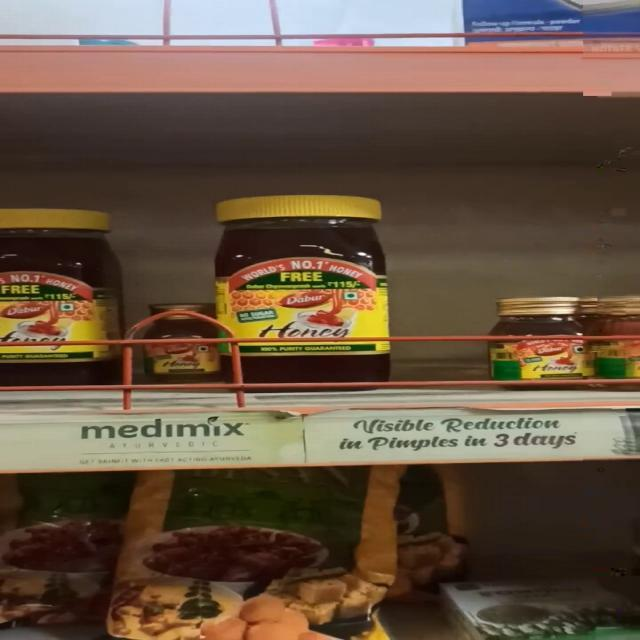Dabur Honey: (210, 188, 397, 394), (0, 201, 136, 383), (486, 293, 602, 390)
